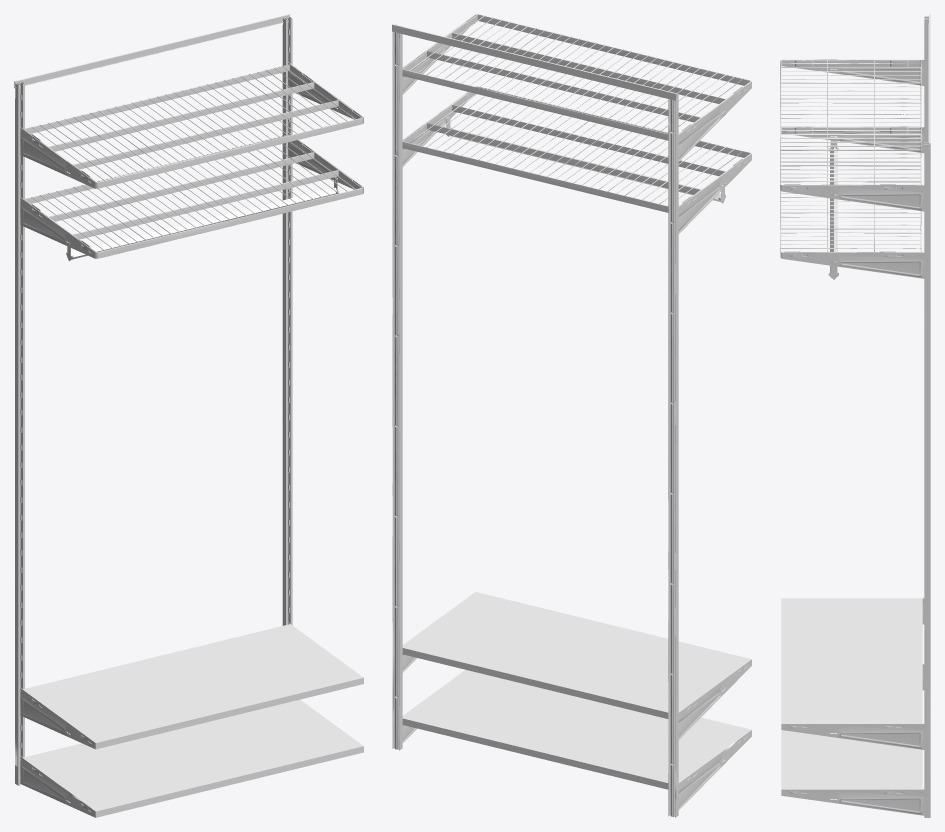
Rendered from boaxel_kombinacja_szafy_49332362.glb.
3 renders of one model, left to right at view 1: azimuth 30°, elevation 25°; view 2: azimuth 150°, elevation 25°; view 3: azimuth 270°, elevation 25°, orthographic. The views are drawn at different scales.
Parts seen in each view (by area): view 1: boaxel_kombinacja_szafy_49332362; view 2: boaxel_kombinacja_szafy_49332362; view 3: boaxel_kombinacja_szafy_49332362.
Part boxes in pixels (x1,y1,x2,y2): boaxel_kombinacja_szafy_49332362: (14, 14, 363, 817); boaxel_kombinacja_szafy_49332362: (392, 14, 751, 817); boaxel_kombinacja_szafy_49332362: (780, 14, 930, 817).
Bounding box in the file's own units: 0.8239 × 2.01 × 0.4042.
1 material, 1 textured.
